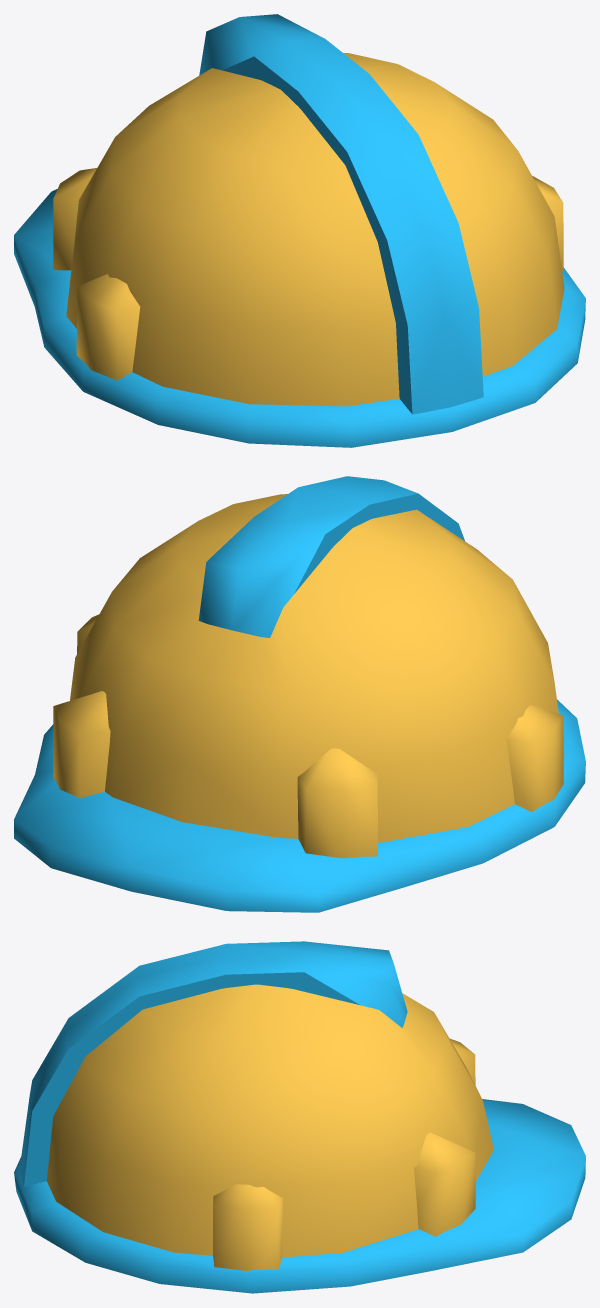
The model's file is BuildersClubHardHat.obj.
3 renders of one model, top to bottom at view 1: azimuth 30°, elevation 25°; view 2: azimuth 150°, elevation 25°; view 3: azimuth 270°, elevation 25°, orthographic. The views are drawn at different scales.
Visible parts, largest first — view 1: Builder's Club Hard Hat; view 2: Builder's Club Hard Hat; view 3: Builder's Club Hard Hat.
Boxes of the visible parts, bbox=[...] form: Builder's Club Hard Hat: bbox=[14, 14, 585, 447]; Builder's Club Hard Hat: bbox=[14, 476, 585, 912]; Builder's Club Hard Hat: bbox=[14, 941, 585, 1293].
Size of the model in its own units: 1.38 by 0.7541 by 1.64.
Materials: 1 (1 with a texture image).
